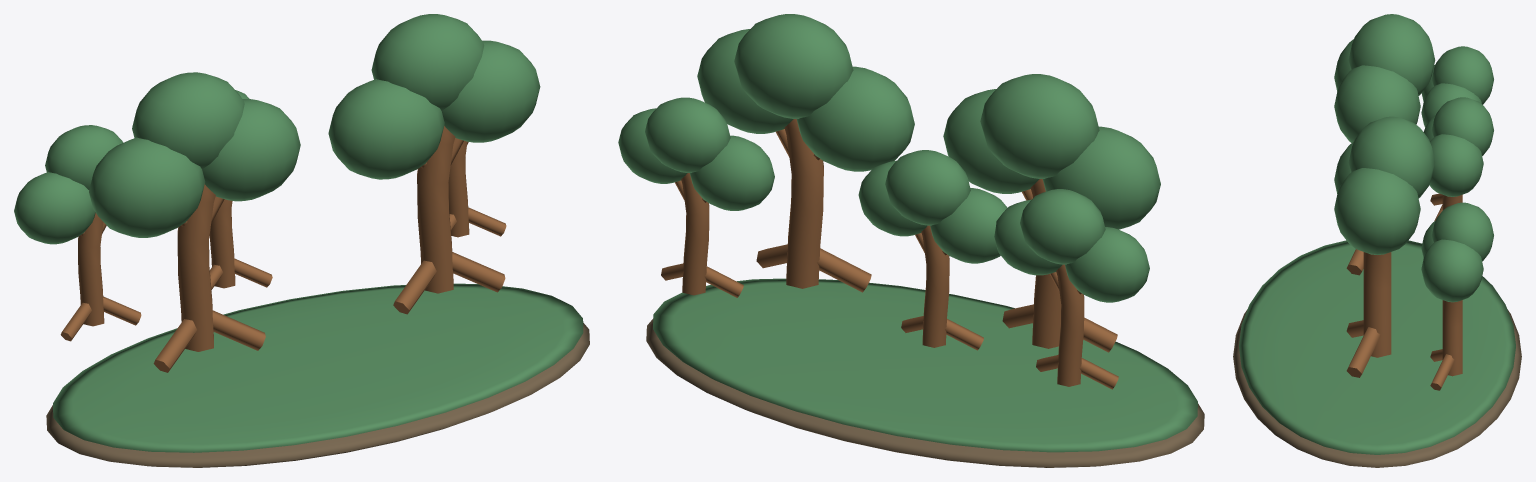
The model's file is deep-forest.glb.
3 renders of one model, left to right at view 1: azimuth 30°, elevation 25°; view 2: azimuth 150°, elevation 25°; view 3: azimuth 270°, elevation 25°, orthographic. The views are drawn at different scales.
Parts seen in each view (by area): view 1: deep-forest_surface_01, deep-forest_surface_02, deep-forest_surface_00; view 2: deep-forest_surface_01, deep-forest_surface_02, deep-forest_surface_00; view 3: deep-forest_surface_01, deep-forest_surface_02, deep-forest_surface_00.
Part boxes in pixels (x1,y1,x2,y2): deep-forest_surface_01: (14,14,583,452); deep-forest_surface_02: (60,126,506,372); deep-forest_surface_00: (46,323,589,467); deep-forest_surface_01: (618,14,1197,452); deep-forest_surface_02: (661,119,1118,389); deep-forest_surface_00: (646,318,1204,467); deep-forest_surface_01: (1239,14,1515,454); deep-forest_surface_02: (1346,193,1462,390); deep-forest_surface_00: (1233,309,1521,467).
Bounding box in the file's own units: 4.56 × 2.86 × 2.5.
